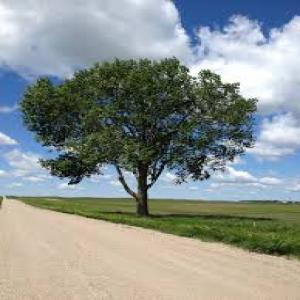Tree: (17, 54, 258, 214)
